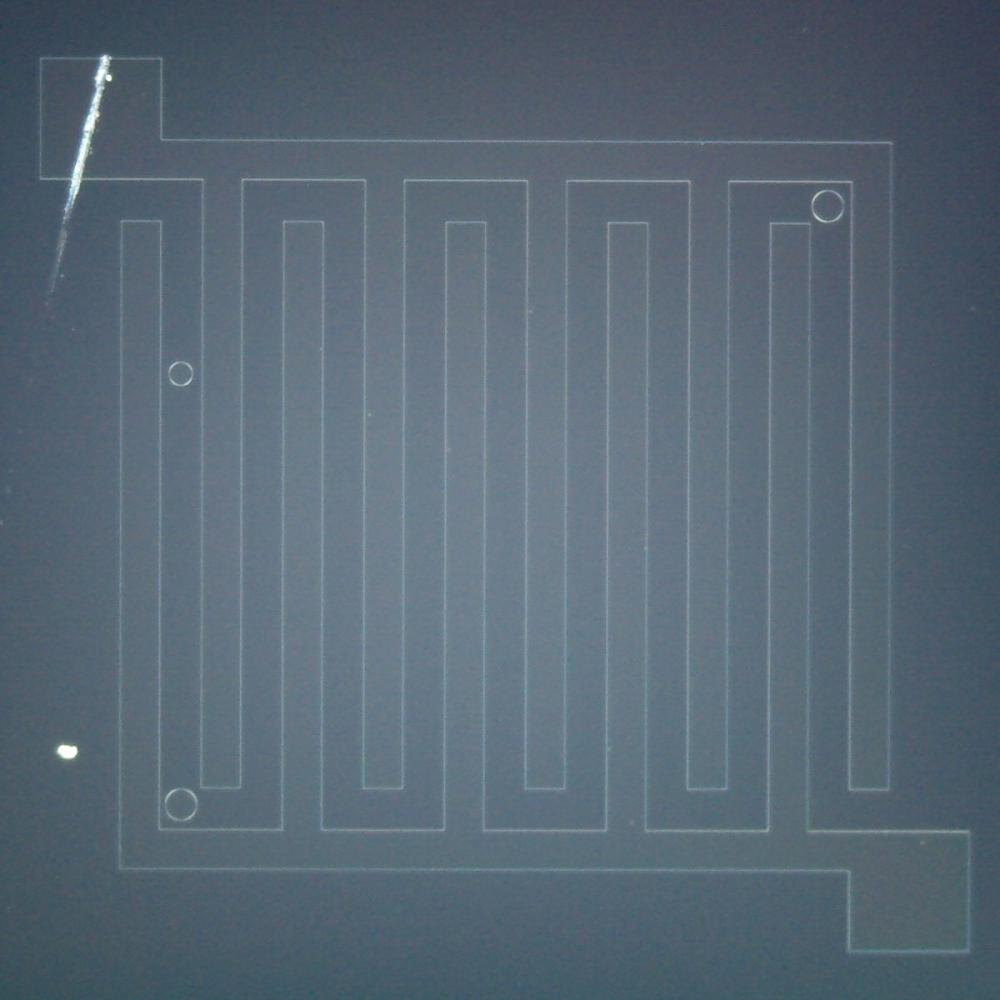Bdot: (58, 740, 78, 762)
dot: (0, 520, 5, 525), (368, 412, 372, 416)
straight: (66, 147, 98, 177), (49, 212, 80, 242), (49, 244, 80, 274), (59, 181, 89, 211), (78, 89, 110, 117), (86, 60, 118, 88), (72, 118, 103, 146)
